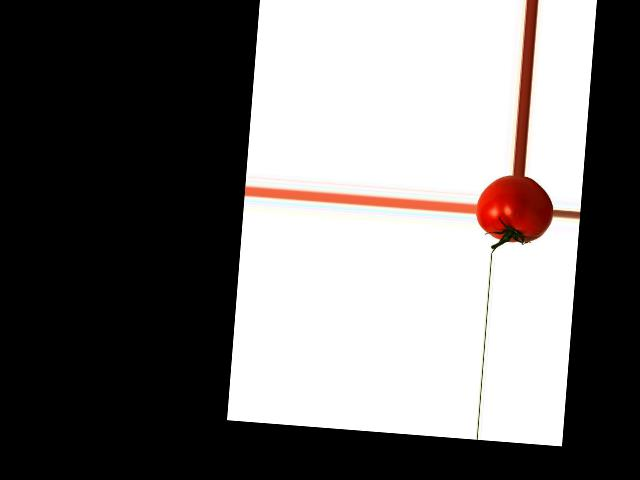tomato: (474, 173, 556, 245)
